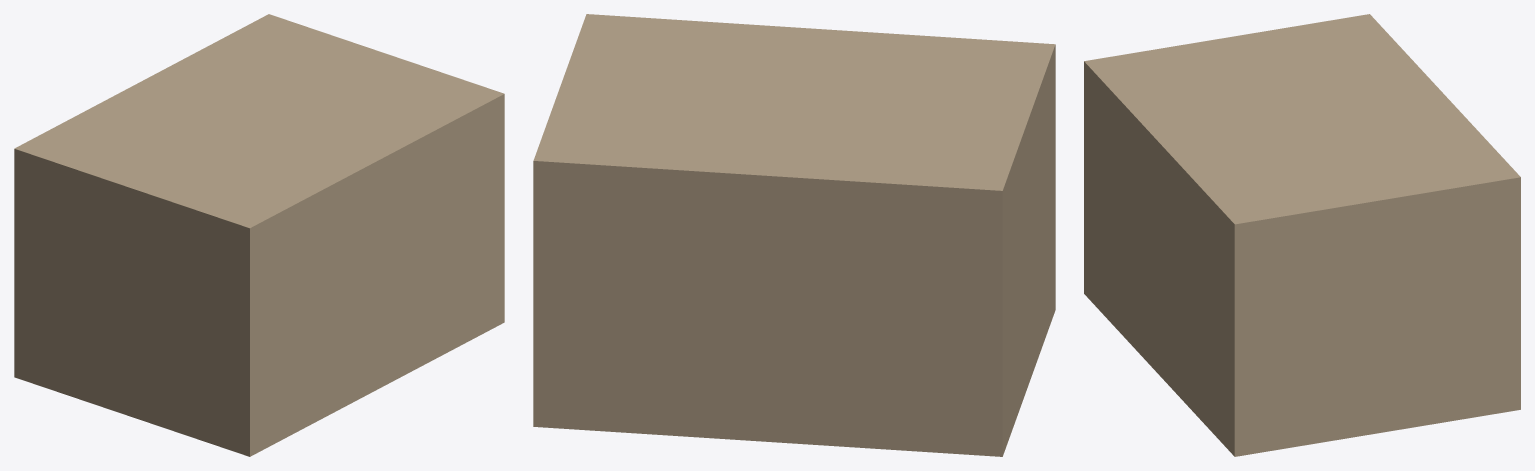
The model's file is bld_106796572.dae.
3 renders of one model, left to right at view 1: azimuth 30°, elevation 25°; view 2: azimuth 150°, elevation 25°; view 3: azimuth 270°, elevation 25°, orthographic. The views are drawn at different scales.
Visible parts, largest first — view 1: bld_106796572; view 2: bld_106796572; view 3: bld_106796572.
Part boxes in pixels (x1,y1,x2,y2): bld_106796572: (14, 14, 504, 456); bld_106796572: (533, 14, 1055, 456); bld_106796572: (1084, 14, 1520, 456).
Size of the model in its own units: 15.53 by 13.63 by 8.
